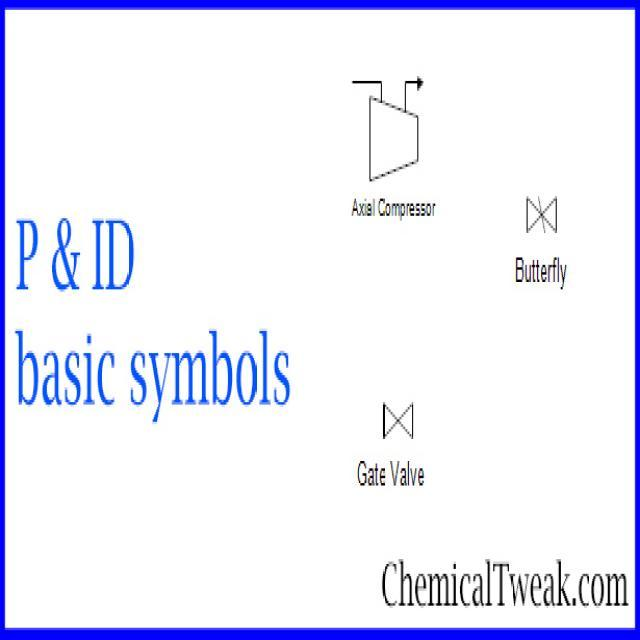Axial Compressor: (357, 51, 442, 180)
Butterfly Valve: (516, 168, 564, 242)
Gate Valve: (376, 384, 424, 446)
